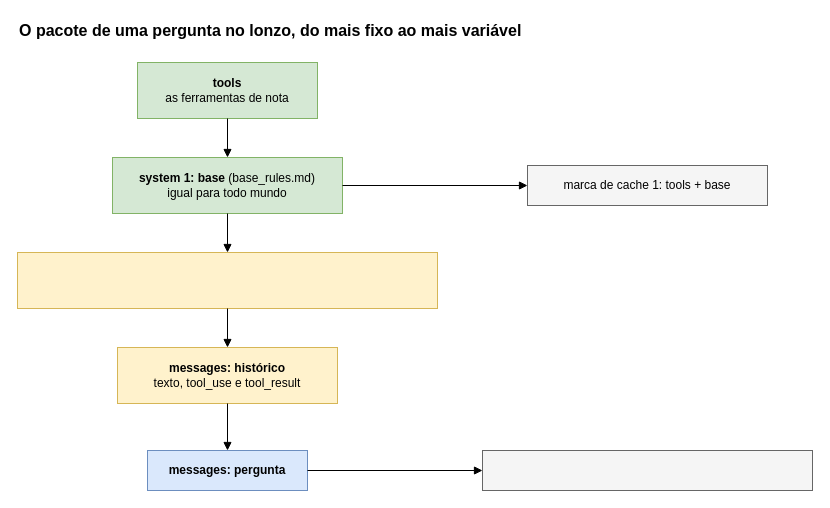
This 830x508 diagram has some shape labels left out. Each missing label, with the box of its shape:
marca de cache 2: pacote até o último bloco: (482, 450, 812, 490)
system 2: contexto data, pasta atual, notas do .workspace, lista de skills: (16, 252, 438, 308)
